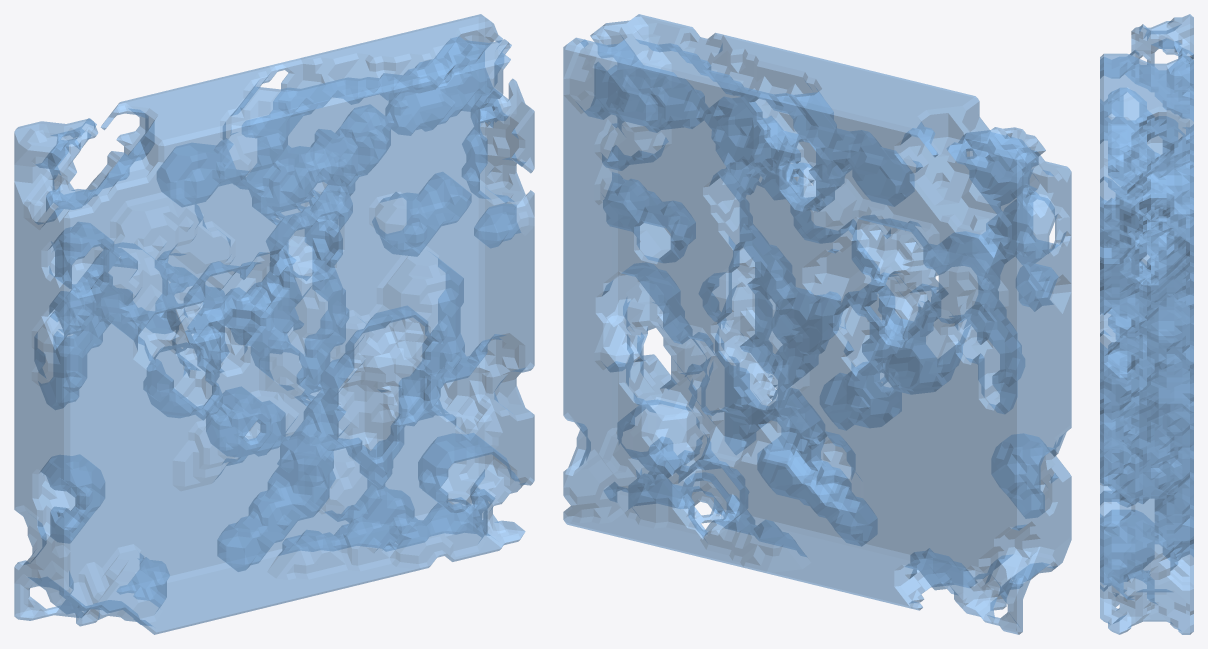
File: v2-A03-fine-dispersed.glb
3 views of the same model, side by side, from view 1: azimuth 30°, elevation 25°; view 2: azimuth 150°, elevation 25°; view 3: azimuth 270°, elevation 25° (orthographic). The views are drawn at different scales.
Visible parts, largest first — view 1: SEMICONDUCTOR_SOLID_TARGET; view 2: SEMICONDUCTOR_SOLID_TARGET; view 3: SEMICONDUCTOR_SOLID_TARGET.
Boxes of the visible parts, left/top/right/bottom form: SEMICONDUCTOR_SOLID_TARGET: left=14, top=14, right=534, bottom=634; SEMICONDUCTOR_SOLID_TARGET: left=563, top=14, right=1071, bottom=634; SEMICONDUCTOR_SOLID_TARGET: left=1100, top=14, right=1193, bottom=634.
Bounding box in the file's own units: 30000 × 30000 × 6000.
